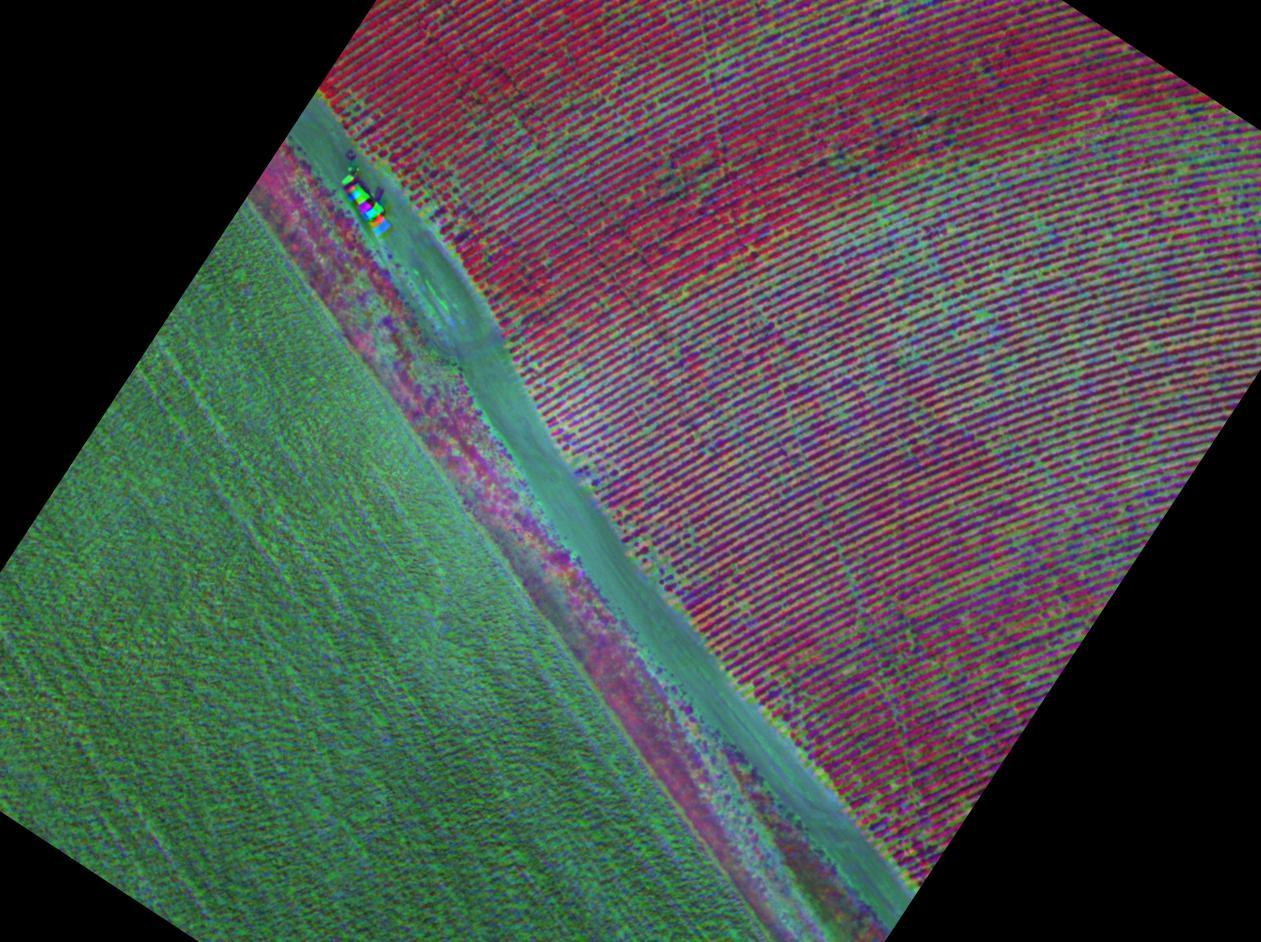dc: (979, 313, 984, 318), (535, 152, 539, 156), (880, 220, 884, 224), (580, 455, 584, 459), (772, 30, 775, 33)
